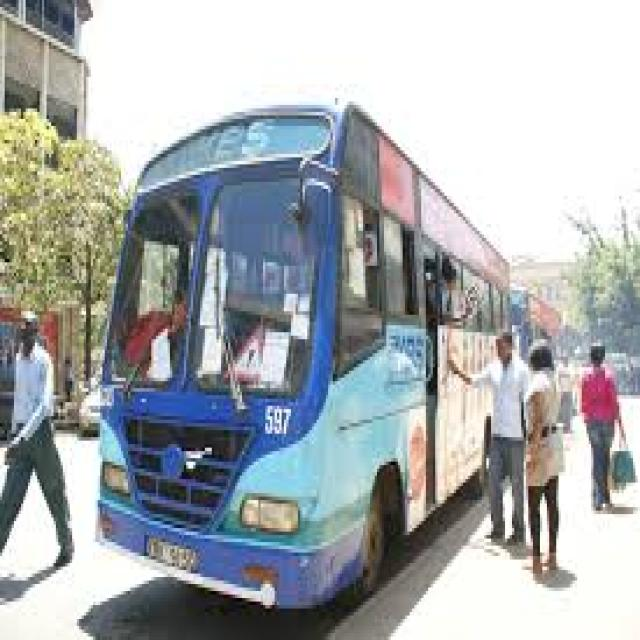bus: (78, 2, 565, 628)
